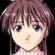NoHuman: (0, 0, 50, 55)
